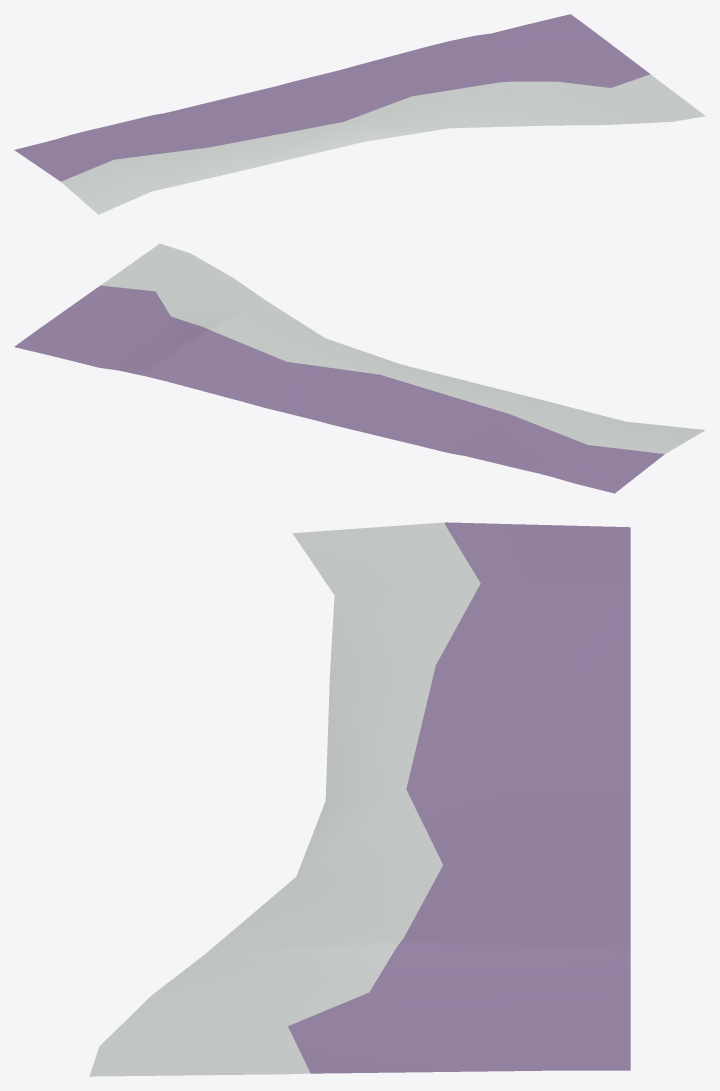
3 views of the same model, one above another, from view 1: azimuth 30°, elevation 25°; view 2: azimuth 150°, elevation 25°; view 3: azimuth 270°, elevation 25° (orthographic). The views are drawn at different scales.
Visible parts, largest first — view 1: G:\FFXIV-MapTools\exports\m5f1\bg\ex4\02_mid_m5\fld\m5f1\bgp (×2); view 2: G:\FFXIV-MapTools\exports\m5f1\bg\ex4\02_mid_m5\fld\m5f1\bgp (×2); view 3: G:\FFXIV-MapTools\exports\m5f1\bg\ex4\02_mid_m5\fld\m5f1\bgp (×2).
Part boxes in pixels (x1,y1,x2,y2): G:\FFXIV-MapTools\exports\m5f1\bg\ex4\02_mid_m5\fld\m5f1\bgp (×2): [14, 14, 705, 214]; G:\FFXIV-MapTools\exports\m5f1\bg\ex4\02_mid_m5\fld\m5f1\bgp (×2): [14, 243, 705, 493]; G:\FFXIV-MapTools\exports\m5f1\bg\ex4\02_mid_m5\fld\m5f1\bgp (×2): [89, 522, 630, 1076].
Bounding box in the file's own units: 128 × 1.61 × 53.88.
